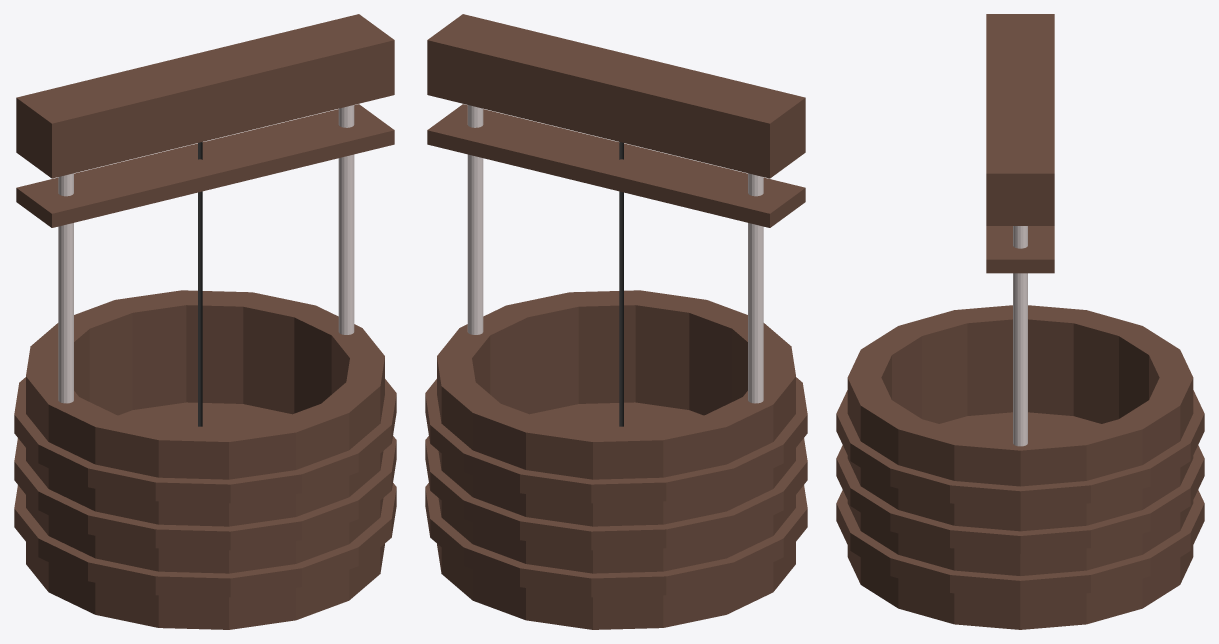
The model's file is WoodPond_B.fbx.
The picture shows the model from 3 angles, left to right: view 1: azimuth 30°, elevation 25°; view 2: azimuth 150°, elevation 25°; view 3: azimuth 270°, elevation 25°; orthographic projection. The views are drawn at different scales.
Parts seen in each view (by area): view 1: Cylinder.005, Cube.013; view 2: Cylinder.005, Cube.013; view 3: Cylinder.005, Cube.013.
Boxes of the visible parts, x1,y1,x2,y2 form: Cylinder.005: (14, 105, 396, 629); Cube.013: (16, 14, 394, 227); Cylinder.005: (425, 105, 807, 629); Cube.013: (427, 14, 805, 227); Cylinder.005: (836, 226, 1204, 629); Cube.013: (986, 14, 1054, 273).
Size of the model in its own units: 1109 by 1500 by 1081.
